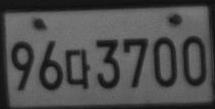0: (181, 34, 207, 87), (152, 35, 178, 87)
3: (95, 37, 120, 89)
6: (38, 40, 64, 90)
7: (122, 36, 149, 88)
9: (10, 40, 35, 90)
다: (64, 48, 90, 89)
